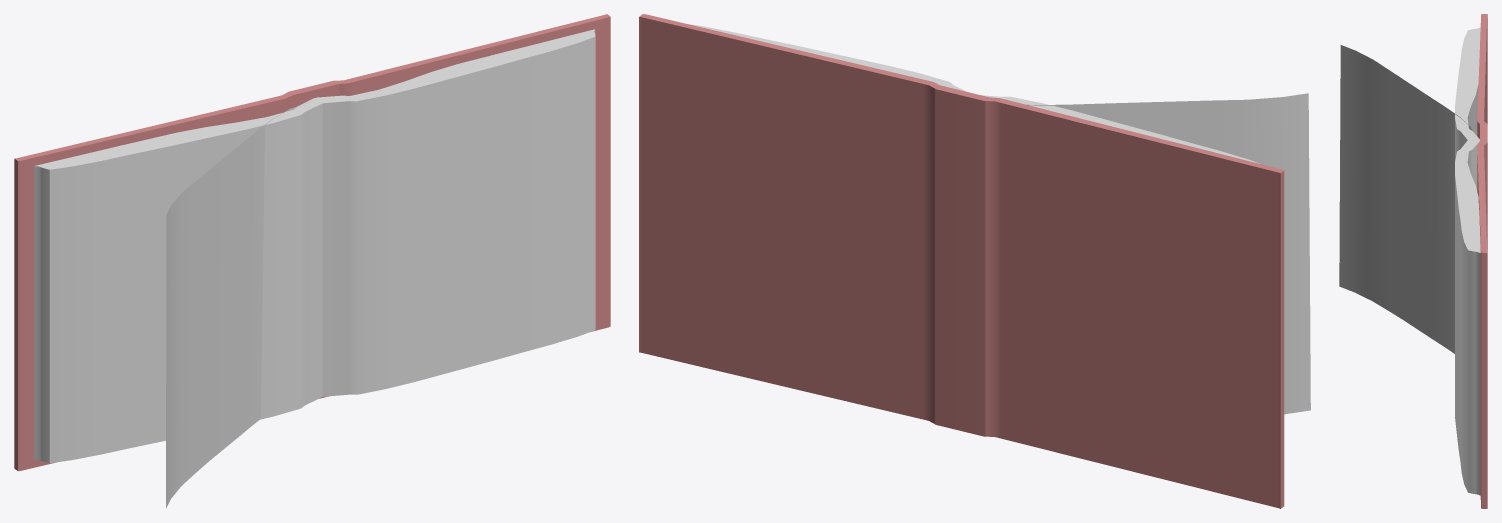
File: book_ex_mov.fbx
3 renders of one model, left to right at view 1: azimuth 30°, elevation 25°; view 2: azimuth 150°, elevation 25°; view 3: azimuth 270°, elevation 25°, orthographic. The views are drawn at different scales.
Parts seen in each view (by area): view 1: page_base1, page_02; view 2: page_base1, page_02; view 3: page_02, page_base1.
Boxes of the visible parts, box(x1,y1,x2,y2) form: page_base1: box(14, 14, 610, 471); page_02: box(166, 102, 308, 508); page_base1: box(639, 14, 1284, 508); page_02: box(1026, 93, 1310, 414); page_02: box(1339, 45, 1472, 353); page_base1: box(1455, 14, 1487, 508).
Bounding box in the file's own units: 6 × 3 × 1.57.
